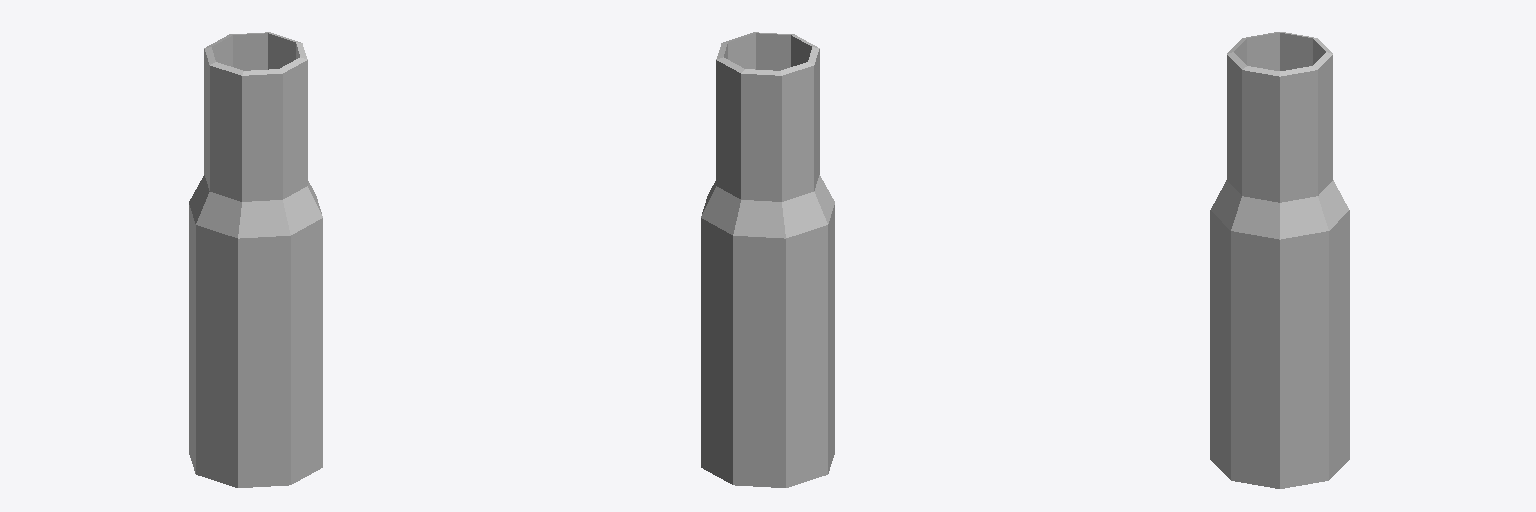
Rendered from 20mmshell.obj.
3 views of the same model, side by side, from view 1: azimuth 30°, elevation 25°; view 2: azimuth 150°, elevation 25°; view 3: azimuth 270°, elevation 25° (orthographic).
Visible parts, largest first — view 1: 20mmshell; view 2: 20mmshell; view 3: 20mmshell.
Part boxes in pixels (left/top/right/bottom): 20mmshell: left=189, top=32, right=322, bottom=487; 20mmshell: left=701, top=32, right=834, bottom=487; 20mmshell: left=1210, top=32, right=1349, bottom=488.
Size of the model in its own units: 0.0758 by 0.2451 by 0.0758.